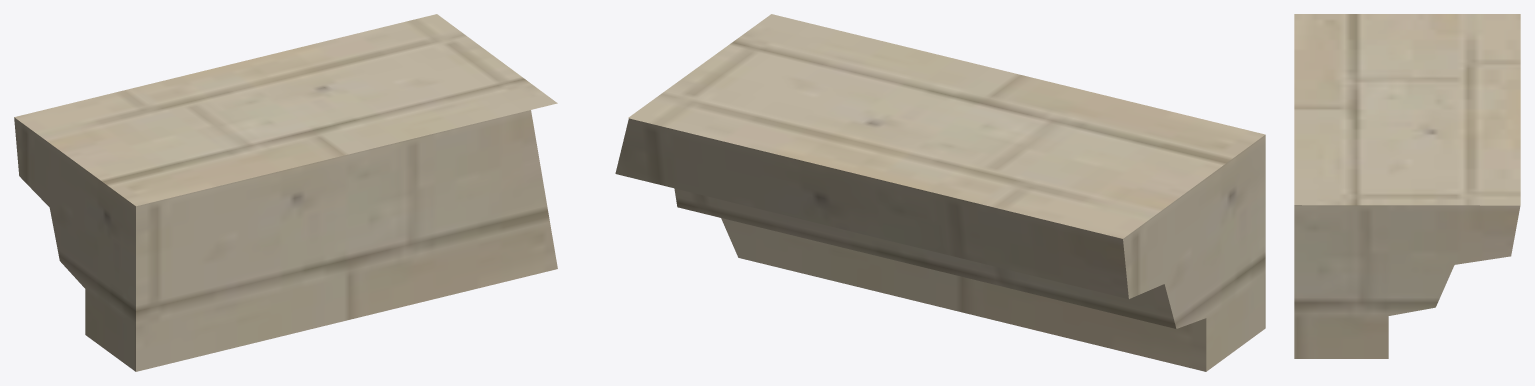
File: debris_dc_cornice.glb
3 views of the same model, side by side, from view 1: azimuth 30°, elevation 25°; view 2: azimuth 150°, elevation 25°; view 3: azimuth 270°, elevation 25° (orthographic). The views are drawn at different scales.
Visible parts, largest first — view 1: debris_dc_cornice; view 2: debris_dc_cornice; view 3: debris_dc_cornice.
Part boxes in pixels (x1,y1,x2,y2): debris_dc_cornice: (14, 14, 557, 371); debris_dc_cornice: (615, 14, 1265, 371); debris_dc_cornice: (1294, 14, 1520, 358).
Size of the model in its own units: 2.56 by 0.9001 by 1.2.
1 material, 1 textured.
